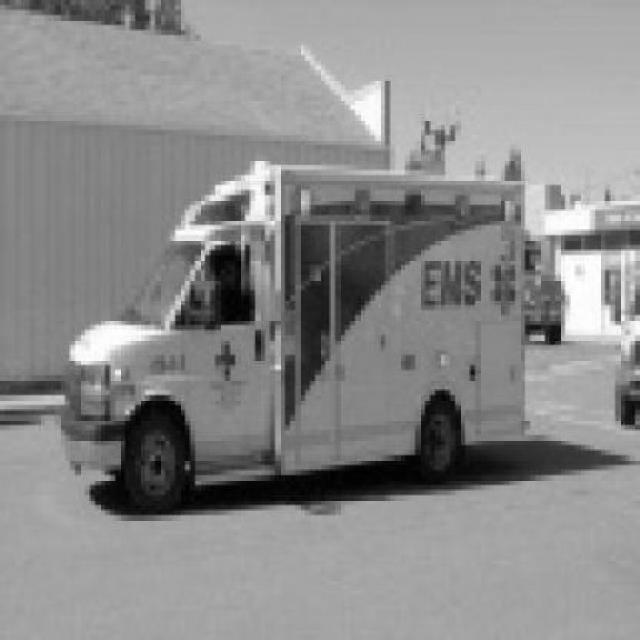Ambulance: (60, 160, 527, 515)
